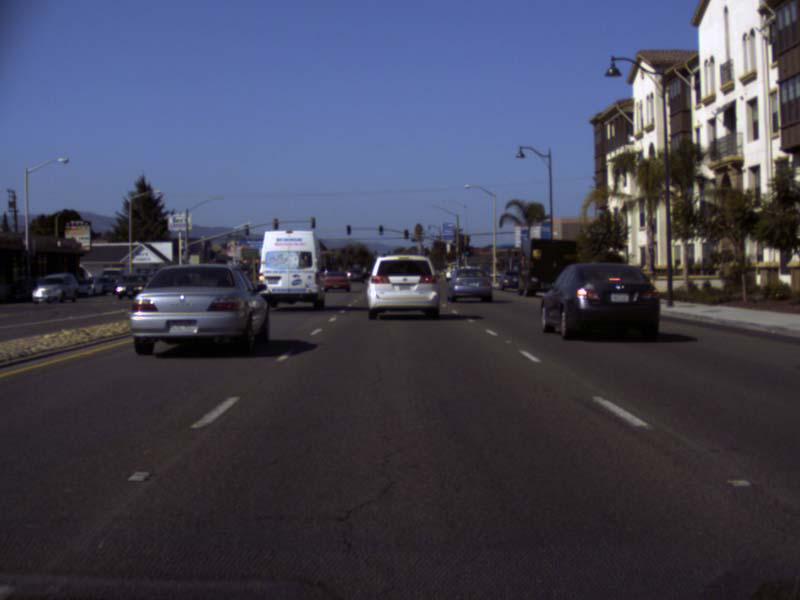Green: (464, 246, 469, 256), (403, 230, 408, 237), (379, 225, 382, 234)
